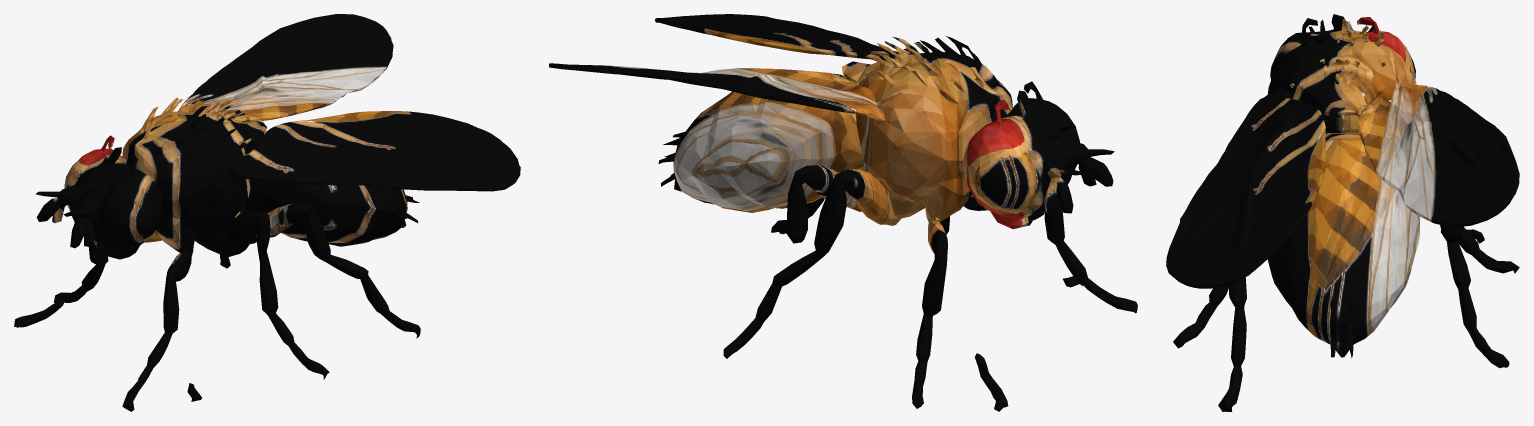
Rendered from fly.glb.
3 views of the same model, side by side, from view 1: azimuth 30°, elevation 25°; view 2: azimuth 150°, elevation 25°; view 3: azimuth 270°, elevation 25° (orthographic). The views are drawn at different scales.
Parts seen in each view (by area): view 1: zebrafish; view 2: zebrafish; view 3: zebrafish.
Part boxes in pixels (box(x1,y1,x2,y2)): zebrafish: box(14, 14, 520, 411); zebrafish: box(549, 14, 1137, 411); zebrafish: box(1166, 14, 1519, 411).
Bounding box in the file's own units: 1 × 0.5446 × 0.6242.
1 material, 1 textured.
